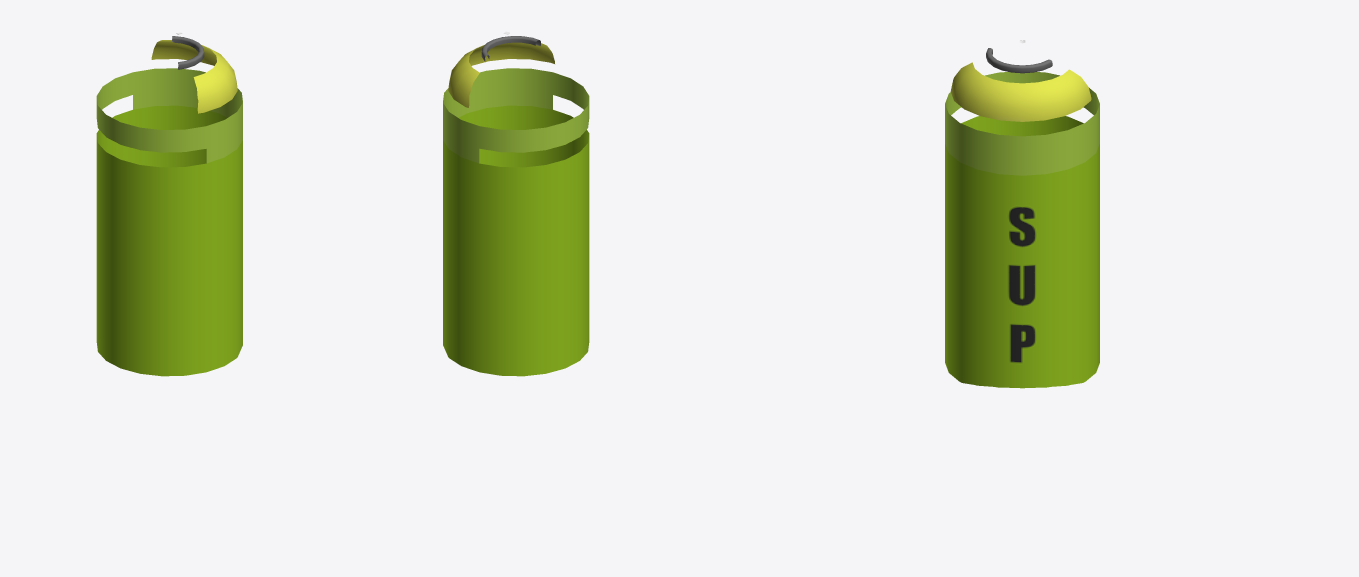
File: CoolCan.fbx
3 views of the same model, side by side, from view 1: azimuth 30°, elevation 25°; view 2: azimuth 150°, elevation 25°; view 3: azimuth 270°, elevation 25° (orthographic). The views are drawn at different scales.
Parts seen in each view (by area): view 1: _100Avatars_137_CoolCan; view 2: _100Avatars_137_CoolCan; view 3: _100Avatars_137_CoolCan.
Part boxes in pixels (x1=…): _100Avatars_137_CoolCan: x1=96, y1=31, x2=242, y2=376; _100Avatars_137_CoolCan: x1=443, y1=31, x2=589, y2=376; _100Avatars_137_CoolCan: x1=945, y1=40, x2=1099, y2=388.
Size of the model in its own units: 1.42 by 5.34 by 5.76.
1 material, 1 textured.
